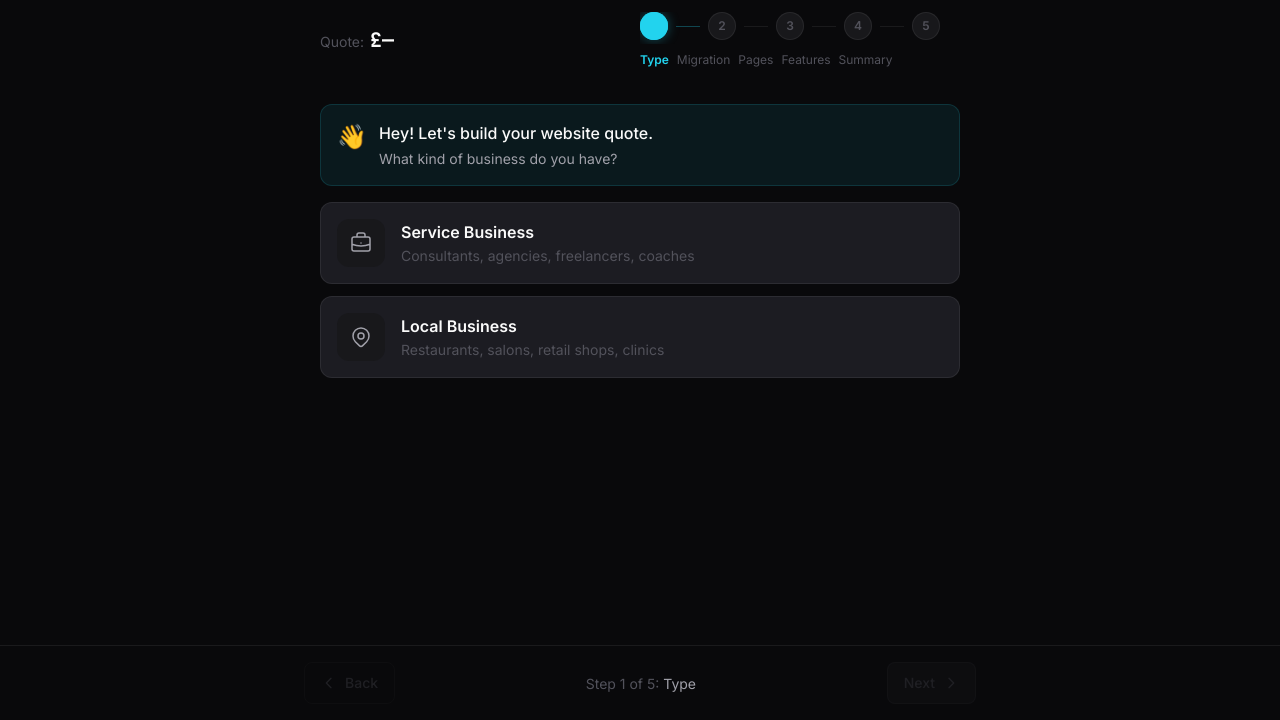
Scenario: QuoteFlow v2 › non-migration flow shows pages step after answering No and clicking Next
The width and height of the screenshot is (1280, 720).
// Select business type (auto-advances to migration)
Click the text "Service Business" at (468, 232), box [401,222,534,242]
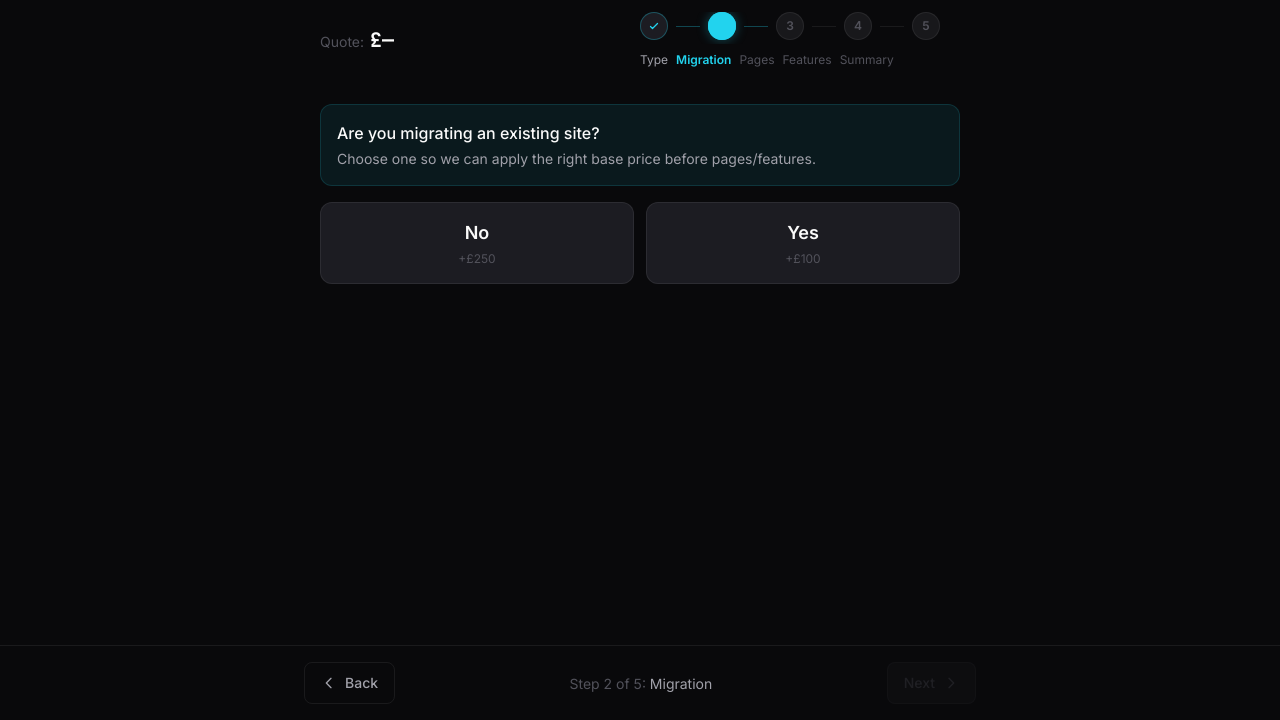
// Select No for migration
Click the text "No" at (477, 232), box [465,222,489,243]
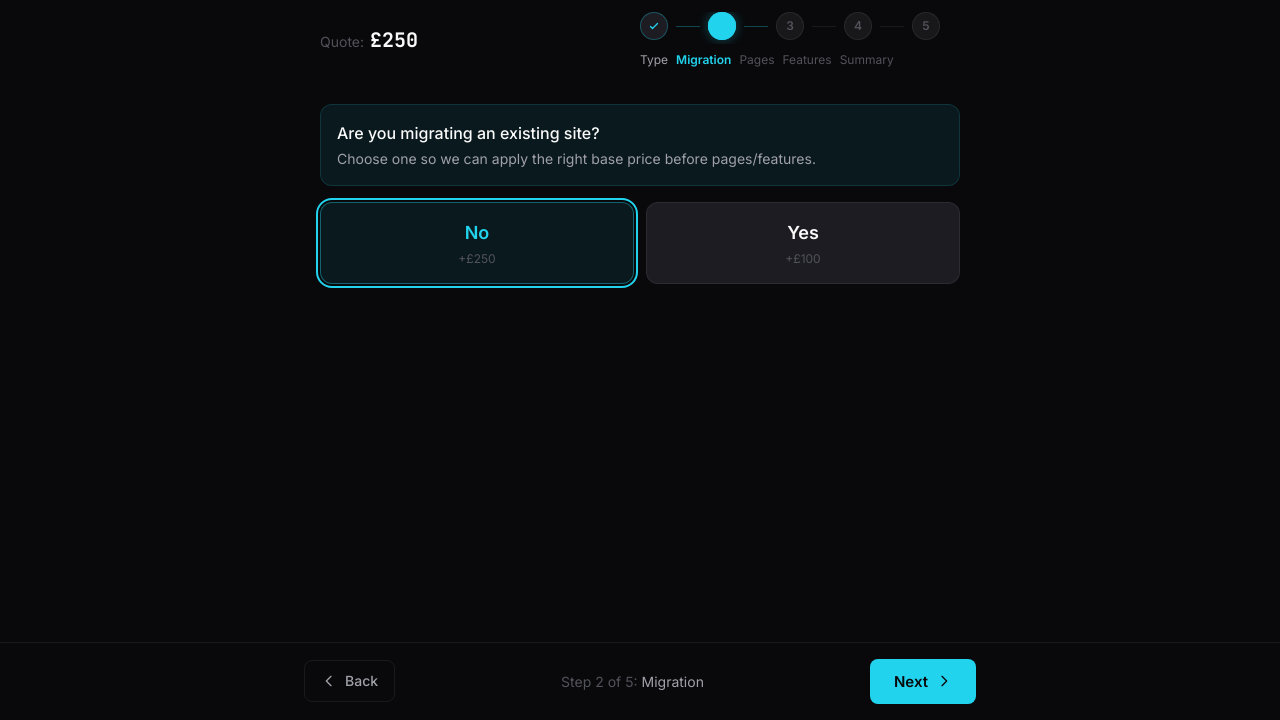
// Click Next to go to Pages step
Click the button "Next" at (923, 681), box [870,659,976,704]
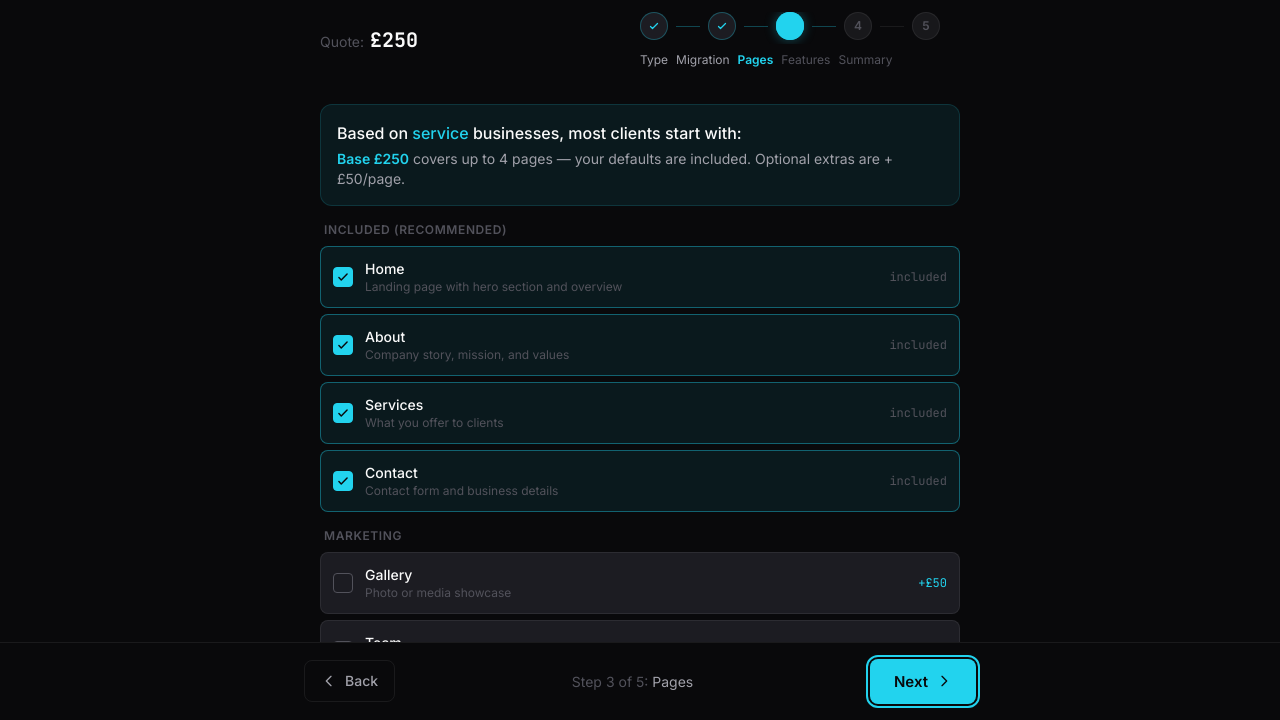
Now the text "Included (recommended)" is shown, box [324,222,507,237]
